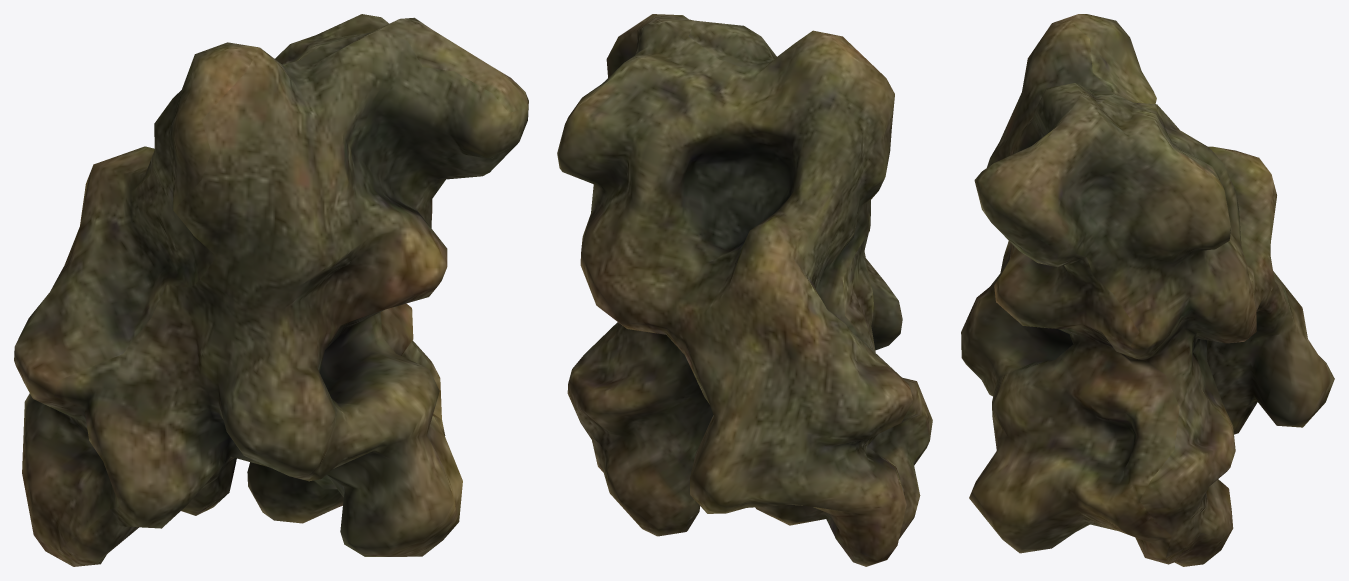
The model's file is Biomass - F 6-cssQFzzX.glb.
3 views of the same model, side by side, from view 1: azimuth 30°, elevation 25°; view 2: azimuth 150°, elevation 25°; view 3: azimuth 270°, elevation 25° (orthographic). The views are drawn at different scales.
Parts seen in each view (by area): view 1: BiomassF_6; view 2: BiomassF_6; view 3: BiomassF_6.
Boxes of the visible parts, x1,y1,x2,y2 form: BiomassF_6: (14,14,528,566); BiomassF_6: (557,14,932,566); BiomassF_6: (961,14,1334,566).
Bounding box in the file's own units: 0.9621 × 1.21 × 0.8297.
1 material, 1 textured.
